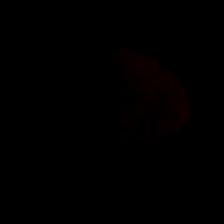fertile: (26, 44, 192, 158)
